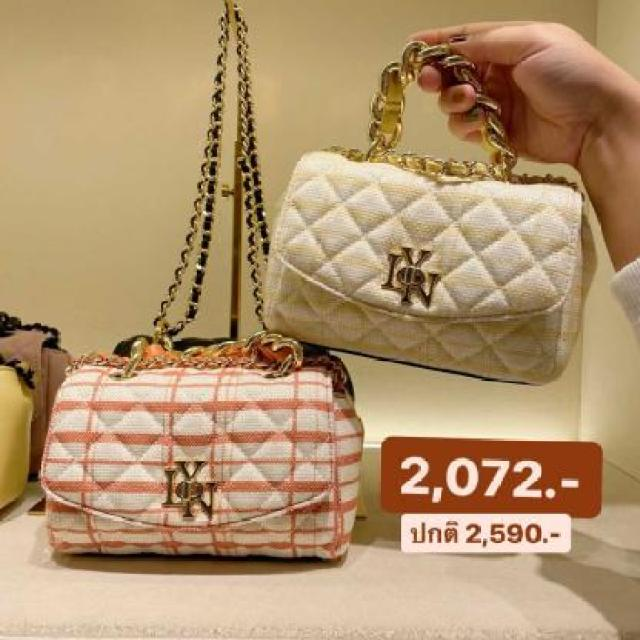Bag: (12, 0, 432, 640), (258, 19, 592, 399)
